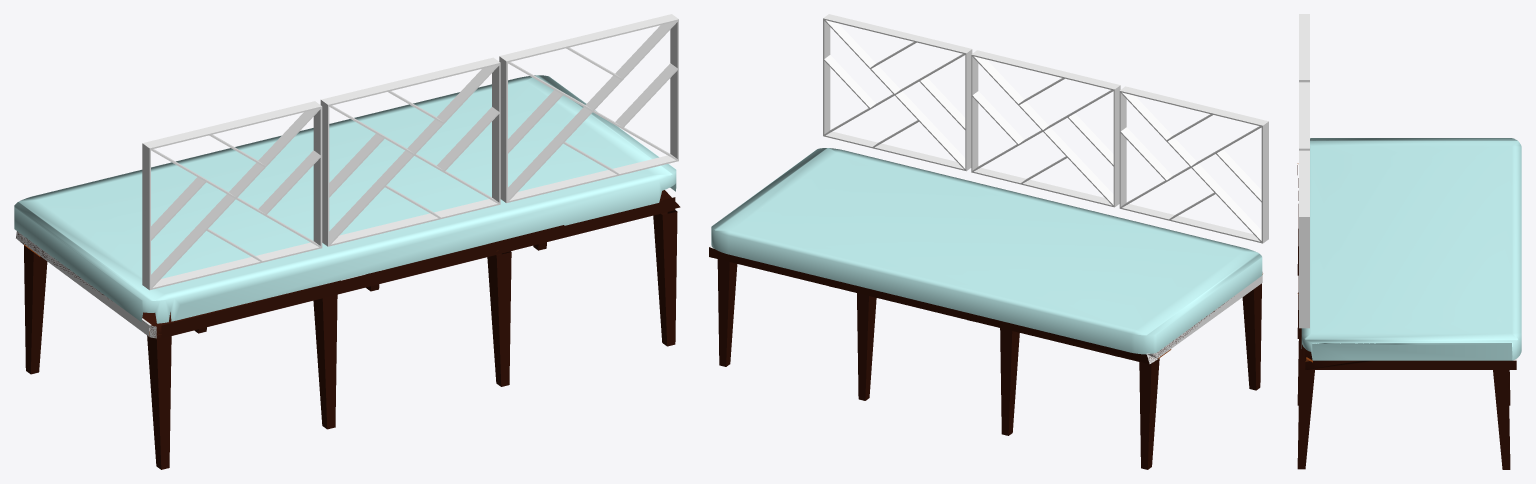
The picture shows the model from 3 angles, left to right: view 1: azimuth 30°, elevation 25°; view 2: azimuth 150°, elevation 25°; view 3: azimuth 270°, elevation 25°; orthographic projection. The views are drawn at different scales.
Visible parts, largest first — view 1: mesh30_mesh30-geometry, mesh1_mesh1-geometry, mesh2_mesh2-geometry, mesh3_mesh3-geometry, mesh29_mesh29-geometry; view 2: mesh30_mesh30-geometry, mesh1_mesh1-geometry, mesh3_mesh3-geometry, mesh2_mesh2-geometry; view 3: mesh30_mesh30-geometry, mesh2_mesh2-geometry, mesh1_mesh1-geometry, mesh3_mesh3-geometry.
Part boxes in pixels (bbox=[...]): mesh30_mesh30-geometry: bbox=[14, 75, 680, 469]; mesh1_mesh1-geometry: bbox=[142, 101, 322, 290]; mesh2_mesh2-geometry: bbox=[499, 14, 678, 203]; mesh3_mesh3-geometry: bbox=[320, 57, 500, 246]; mesh29_mesh29-geometry: bbox=[161, 197, 675, 338]; mesh30_mesh30-geometry: bbox=[709, 148, 1262, 469]; mesh1_mesh1-geometry: bbox=[1119, 86, 1268, 243]; mesh3_mesh3-geometry: bbox=[971, 50, 1120, 207]; mesh2_mesh2-geometry: bbox=[823, 14, 972, 171]; mesh30_mesh30-geometry: bbox=[1297, 138, 1521, 469]; mesh2_mesh2-geometry: bbox=[1299, 150, 1309, 328]; mesh1_mesh1-geometry: bbox=[1299, 14, 1309, 82]; mesh3_mesh3-geometry: bbox=[1299, 82, 1309, 150].
Size of the model in its own units: 0.8025 by 0.4637 by 0.371.
